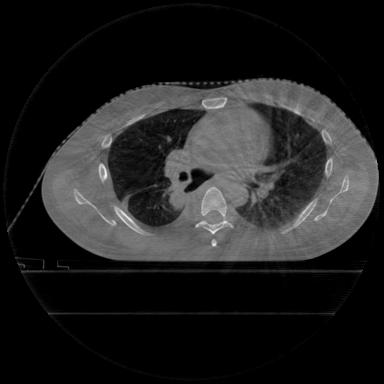body: (42, 79, 378, 261)
cord: (195, 187, 233, 236)
paru kanan: (108, 109, 205, 225)
paru kiri: (236, 103, 326, 228)
